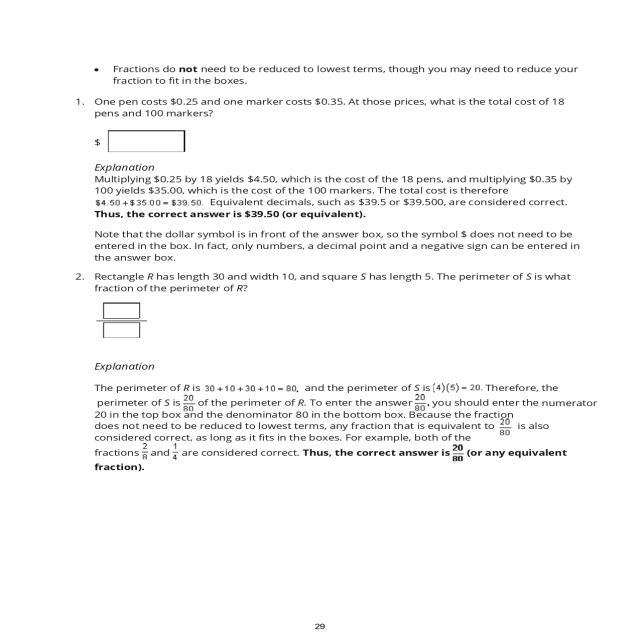Question_Answer_Block: (32, 267, 622, 345), (32, 90, 622, 162)
Question_Block: (32, 267, 622, 345), (32, 90, 622, 162)
Question_Paper_Area: (32, 26, 622, 571)
